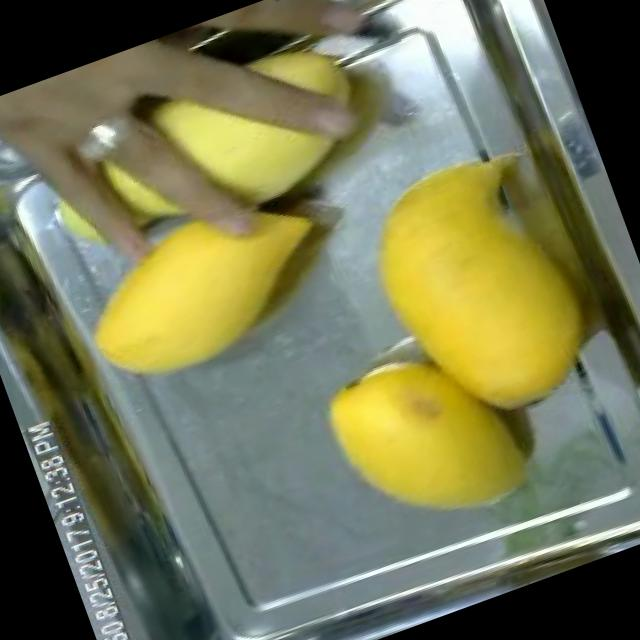fruit: (324, 109, 637, 458), (36, 143, 375, 424), (93, 0, 407, 269), (304, 316, 553, 562), (0, 25, 238, 248)
